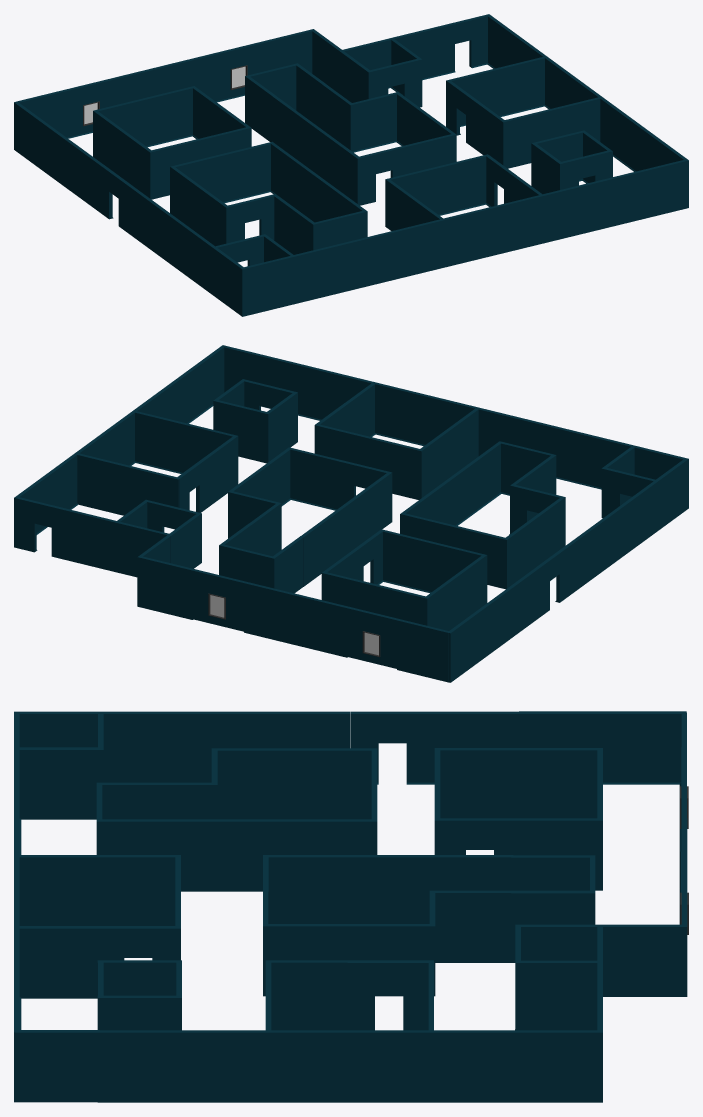
File: house.fbx
3 renders of one model, top to bottom at view 1: azimuth 30°, elevation 25°; view 2: azimuth 150°, elevation 25°; view 3: azimuth 270°, elevation 25°, orthographic. The views are drawn at different scales.
Visible parts, largest first — view 1: wall.081; view 2: wall.081; view 3: wall.081.
Boxes of the visible parts, left/top/right/bottom form: wall.081: left=14, top=14, right=688, bottom=316; wall.081: left=14, top=345, right=688, bottom=682; wall.081: left=14, top=711, right=688, bottom=1102.
Bounding box in the file's own units: 271 × 27.5 × 240.
